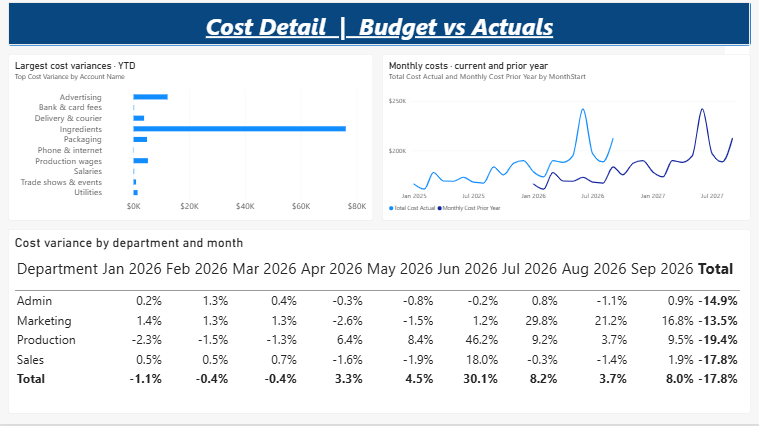

The page's visual inventory and layout, read from the dashboard file:
{"tool":"powerbi","page":{"name":"Cost Detail","canvas":[1920,1080],"ordinal":1},"visuals":[{"type":"textbox","box":[24,14,1872,110],"z":38},{"type":"clusteredBarChart","title":"Largest cost variances · YTD","fields":{"Category":["AccountMap_Dim.Account Name"],"Y":["_Measures.Top Cost Variance"]},"box":[24,145,920,420],"z":169},{"type":"pivotTable","title":"Cost variance by department and month","fields":{"Columns":["Date_Dim.MonthStart"],"Rows":["Department_Dim.Department"],"Values":["_Measures.Monthly Cost Variance %"]},"box":[24,587,1872,465],"z":611},{"type":"lineChart","title":"Monthly costs · current and prior year","fields":{"Category":["Date_Dim.MonthStart"],"Y":["_Measures.Total Cost Actual","_Measures.Monthly Cost Prior Year"]},"box":[967,145,929,420],"z":1112}]}

Visuals, with their boxes in screenshot pixels (x1, y1, x2, y2), scaled from the page's 1920x1080 canvas onto the 759x426 screenshot:
textbox: [9,6,750,49]
"Largest cost variances · YTD" clusteredBarChart: [9,57,373,223]
"Cost variance by department and month" pivotTable: [9,232,750,415]
"Monthly costs · current and prior year" lineChart: [382,57,750,223]
